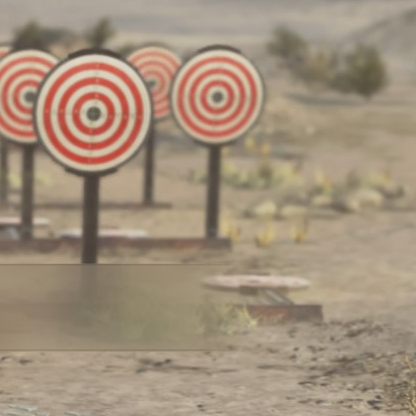target: (32, 50, 153, 176), (169, 46, 266, 147)
